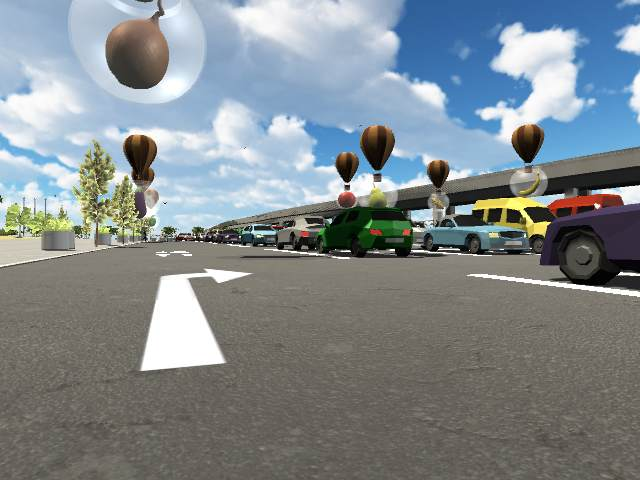ground_right: (158, 266, 254, 284)
